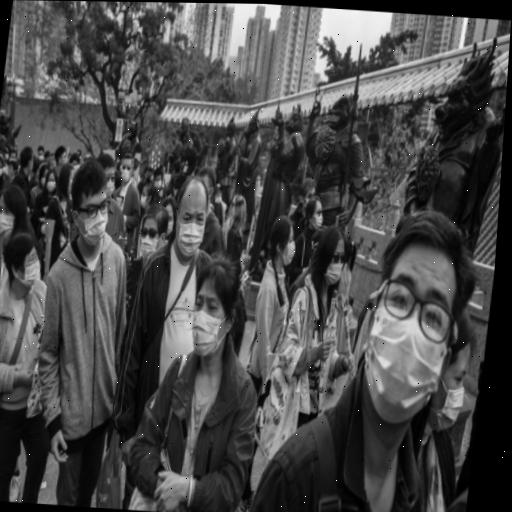mask: (357, 203, 471, 425), (427, 300, 479, 440), (183, 250, 246, 363), (60, 153, 120, 253), (167, 170, 212, 263), (0, 225, 47, 295), (311, 220, 351, 291), (134, 197, 173, 265), (261, 210, 300, 276), (0, 180, 30, 241), (303, 193, 326, 235), (118, 150, 137, 185), (43, 165, 60, 197), (148, 164, 165, 194), (211, 177, 225, 208), (0, 146, 10, 186)
